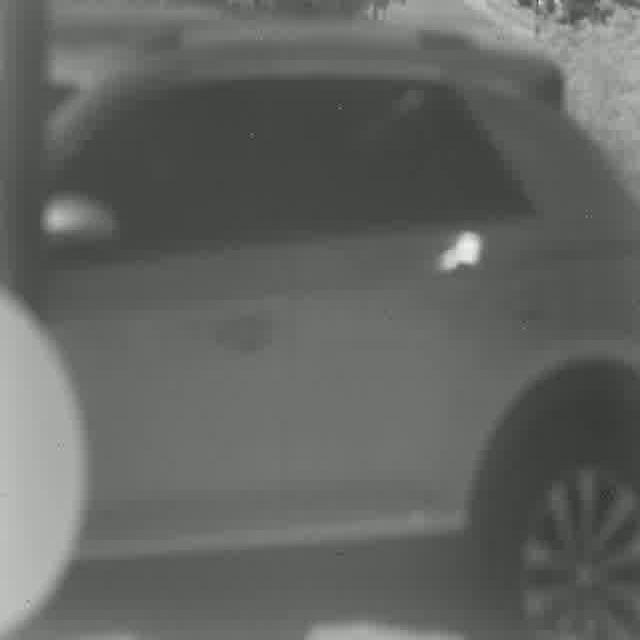Car: (42, 10, 640, 640)
